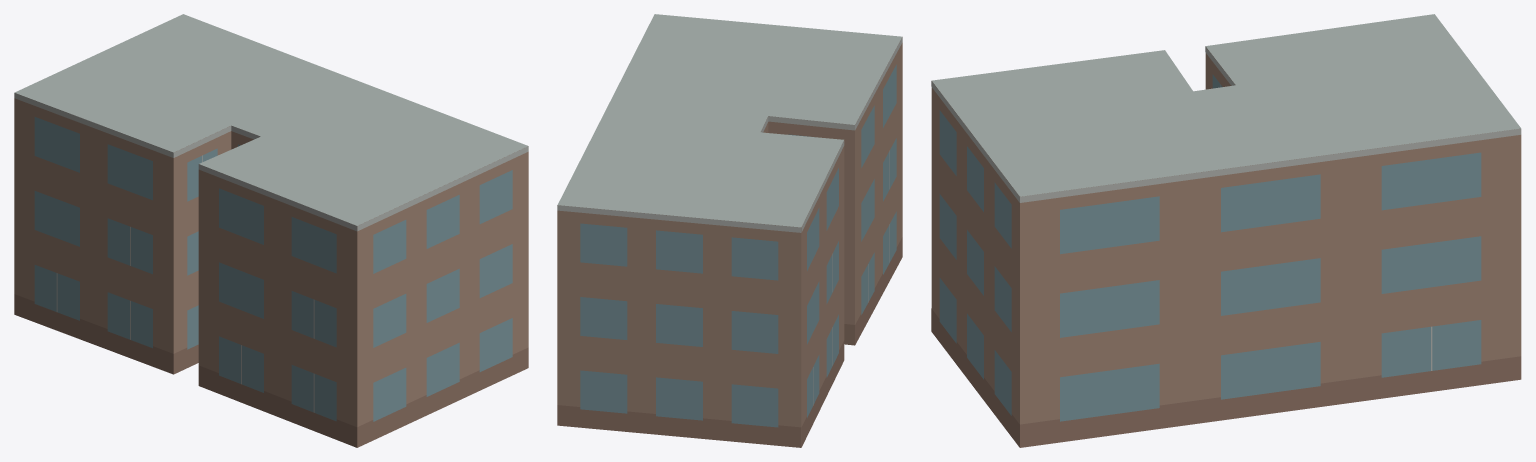
The model's file is survey-upis-32959608.glb.
The picture shows the model from 3 angles, left to right: view 1: azimuth 30°, elevation 25°; view 2: azimuth 150°, elevation 25°; view 3: azimuth 270°, elevation 25°; orthographic projection. The views are drawn at different scales.
Parts seen in each view (by area): view 1: survey-upis-32959608.tmp; view 2: survey-upis-32959608.tmp; view 3: survey-upis-32959608.tmp.
Part boxes in pixels (x1,y1,x2,y2): survey-upis-32959608.tmp: (14,14,528,447); survey-upis-32959608.tmp: (557,14,902,447); survey-upis-32959608.tmp: (931,14,1521,447).
Bounding box in the file's own units: 15.31 × 9.8 × 20.87.
